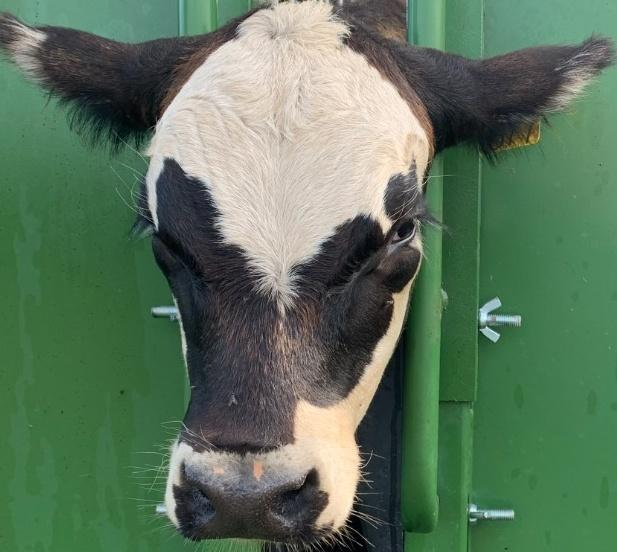muzzles: (161, 453, 355, 549)
